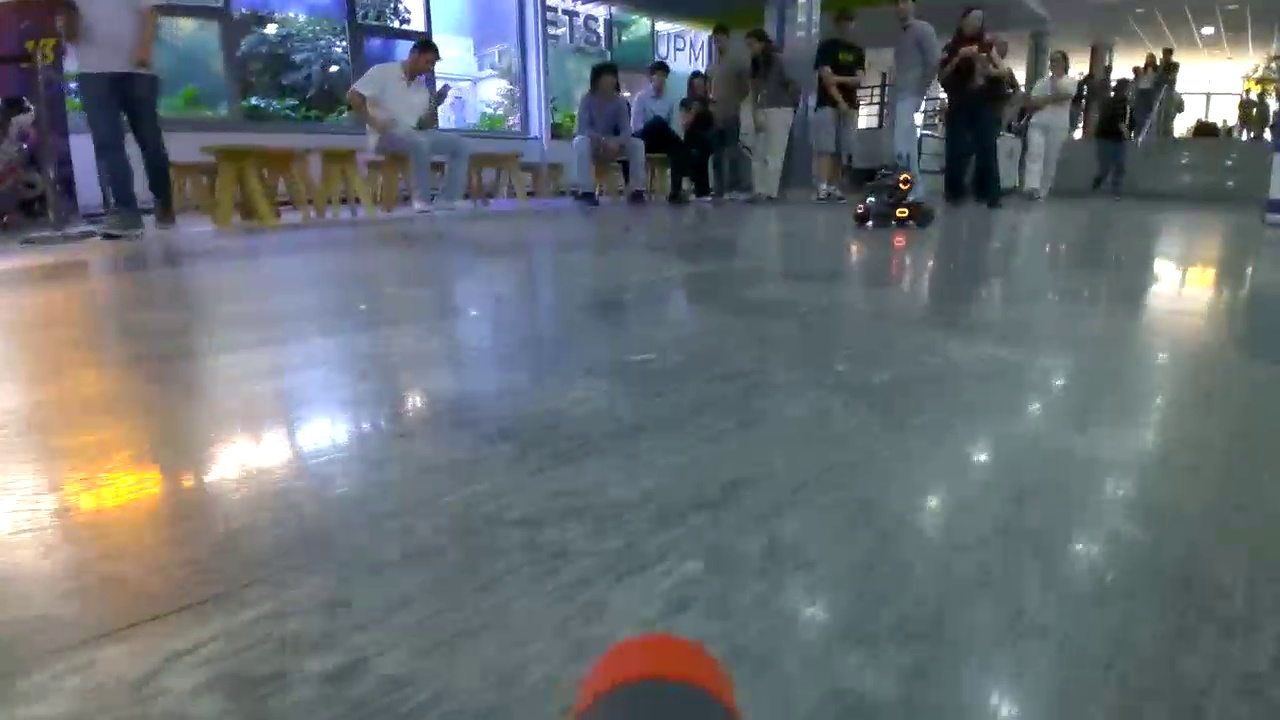robot: (853, 167, 937, 230)
